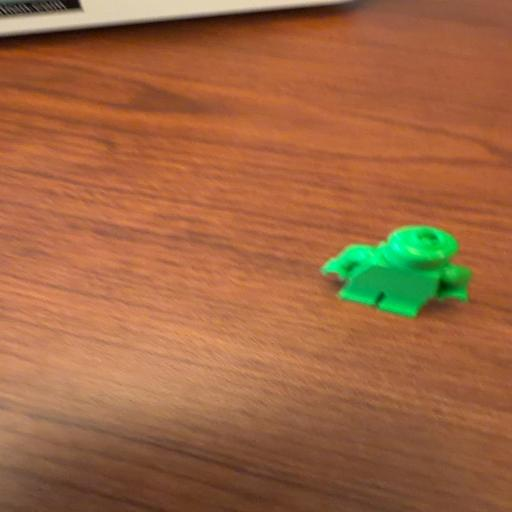UnoQ-minifig-detector: (320, 225, 472, 318)
